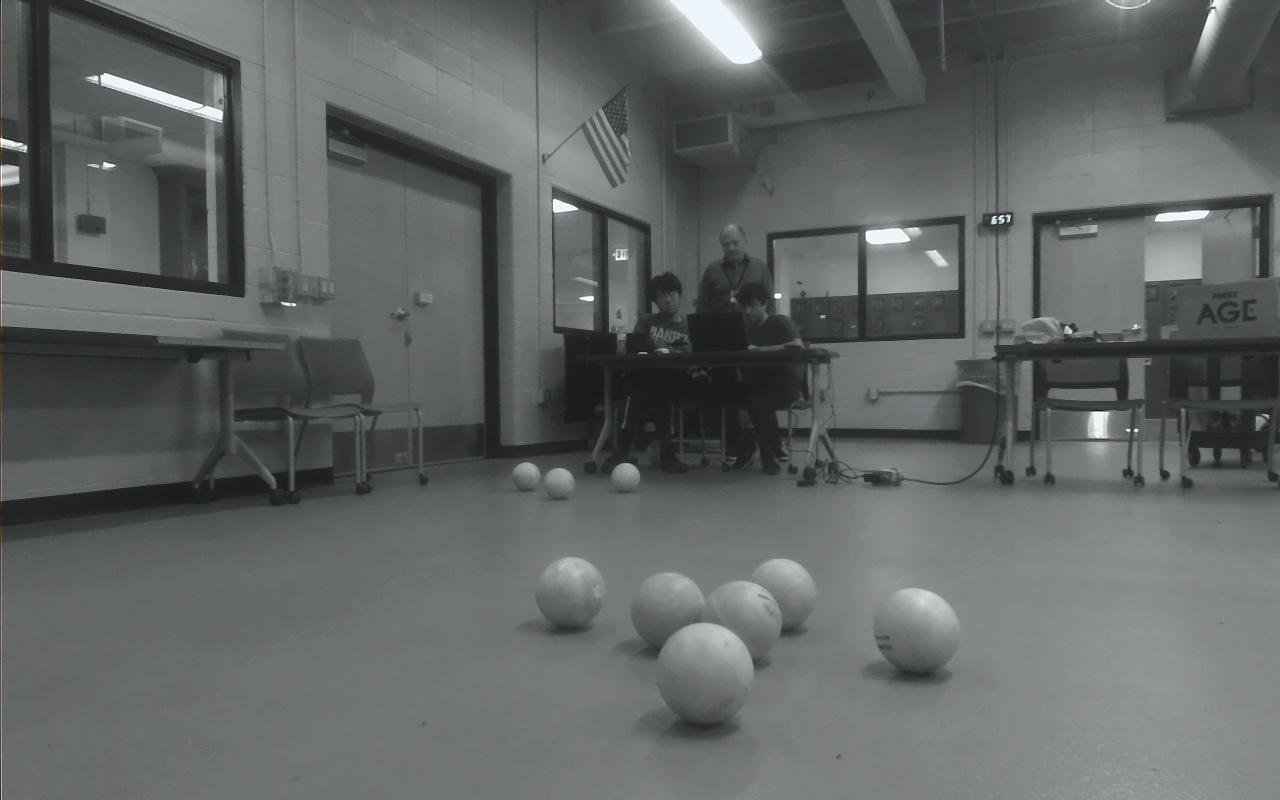Fuel: (657, 623, 754, 725), (873, 589, 960, 675), (700, 580, 782, 663), (631, 572, 704, 650), (535, 557, 605, 629), (750, 559, 817, 631), (543, 468, 575, 499), (611, 463, 641, 492), (512, 462, 540, 490)
